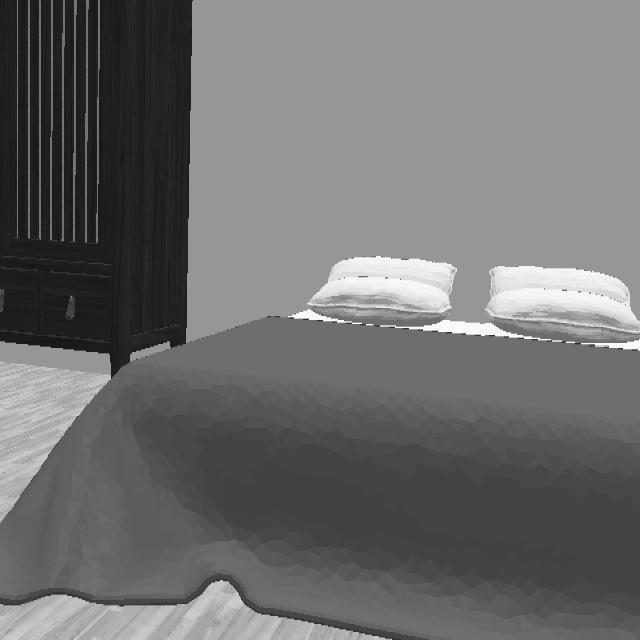bed: (0, 318, 640, 640)
pillow: (485, 266, 640, 346), (290, 258, 458, 328)
